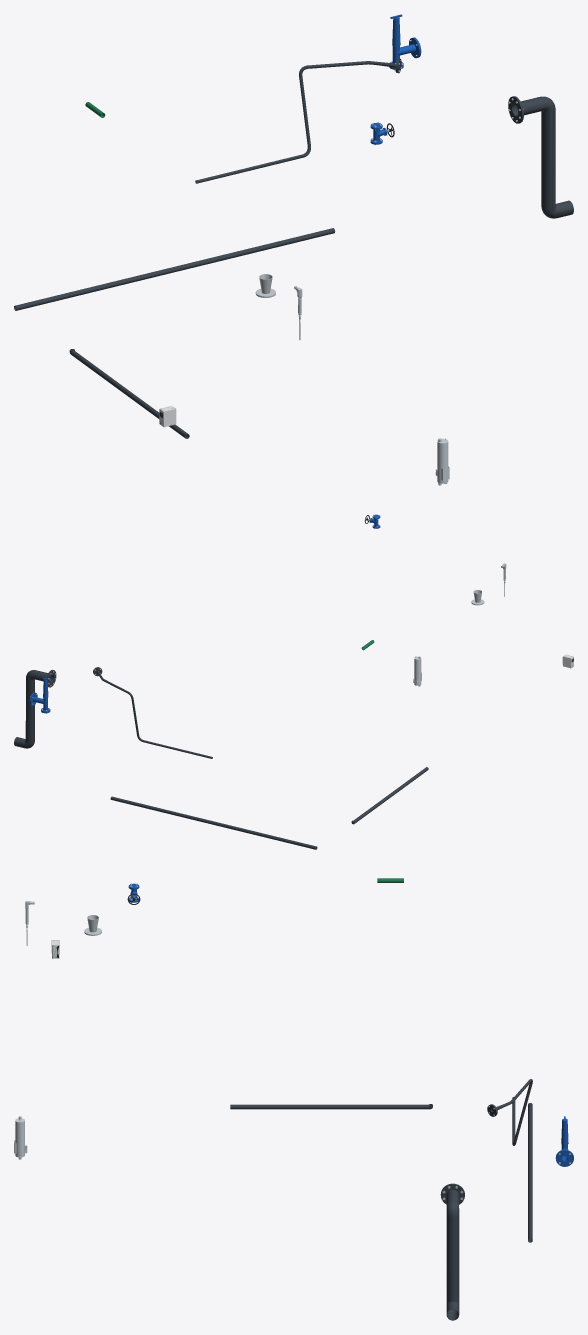
File: s4000-1-CBO17kce.glb
The picture shows the model from 3 angles, top to bottom: view 1: azimuth 30°, elevation 25°; view 2: azimuth 150°, elevation 25°; view 3: azimuth 270°, elevation 25°; orthographic projection. The views are drawn at different scales.
Parts seen in each view (by area): view 1: bdv_water_drain / dark, bottom_discharge / dark, tds_without_fv / dark, bottom_piping / dark, flash_steam_common / blue; view 2: bdv_water_drain / dark, bottom_discharge / dark, tds_without_fv / dark; view 3: bdv_water_drain / dark, bottom_piping / dark, bottom_discharge / dark, tds_without_fv / dark.
Part boxes in pixels (x1,y1,x2,y2): bdv_water_drain / dark: [508, 96, 573, 218]; bottom_discharge / dark: [14, 228, 335, 310]; tds_without_fv / dark: [195, 58, 401, 183]; bottom_piping / dark: [69, 349, 189, 438]; flash_steam_common / blue: [389, 14, 421, 69]; bdv_water_drain / dark: [14, 670, 56, 748]; bottom_discharge / dark: [110, 796, 317, 849]; tds_without_fv / dark: [93, 667, 212, 758]; bdv_water_drain / dark: [440, 1183, 464, 1320]; bottom_piping / dark: [230, 1104, 432, 1109]; bottom_discharge / dark: [528, 1103, 532, 1242]; tds_without_fv / dark: [487, 1079, 532, 1145].
Bounding box in the file's own units: 5.8 × 2.8 × 5.06.
